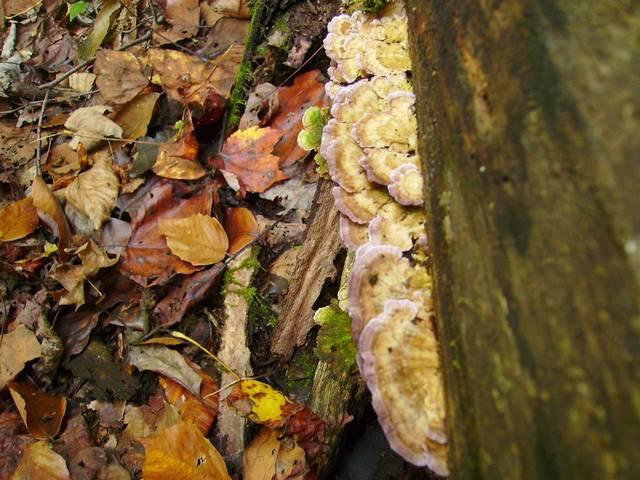Non-edible Mushroom: (312, 1, 450, 475)
